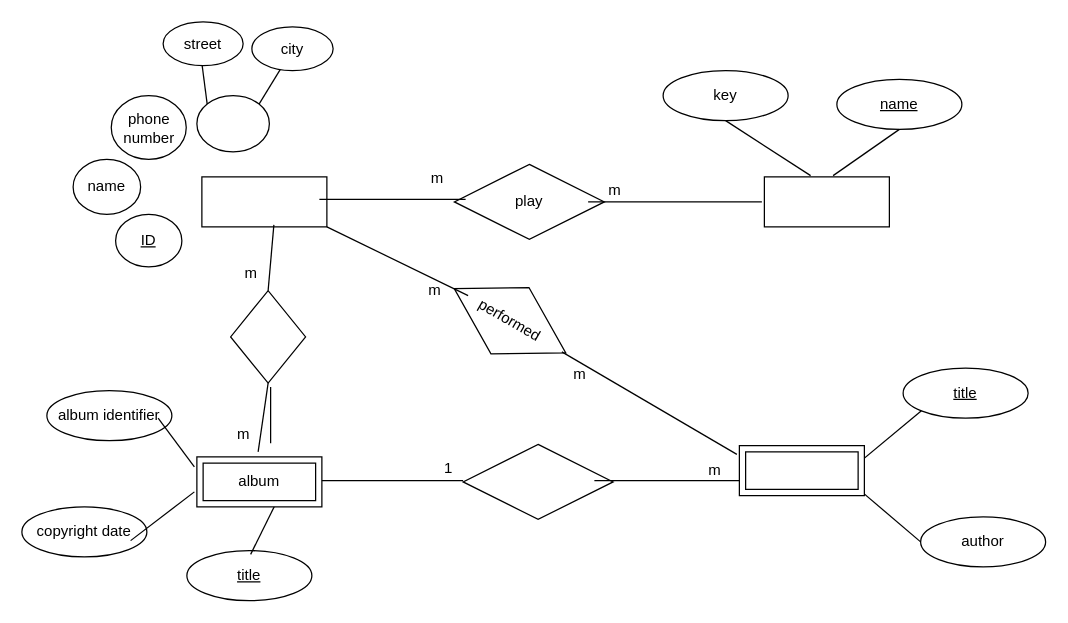
Some shapes in this 1068 by 623 pixel diagram are drawn without their labels. Each missing label, with the box of its shape:
address: (196, 94, 269, 152)
has: (462, 443, 613, 519)
instrument: (763, 176, 889, 227)
musician: (201, 176, 327, 227)
Produces: (229, 289, 306, 383)
song: (738, 444, 864, 496)
